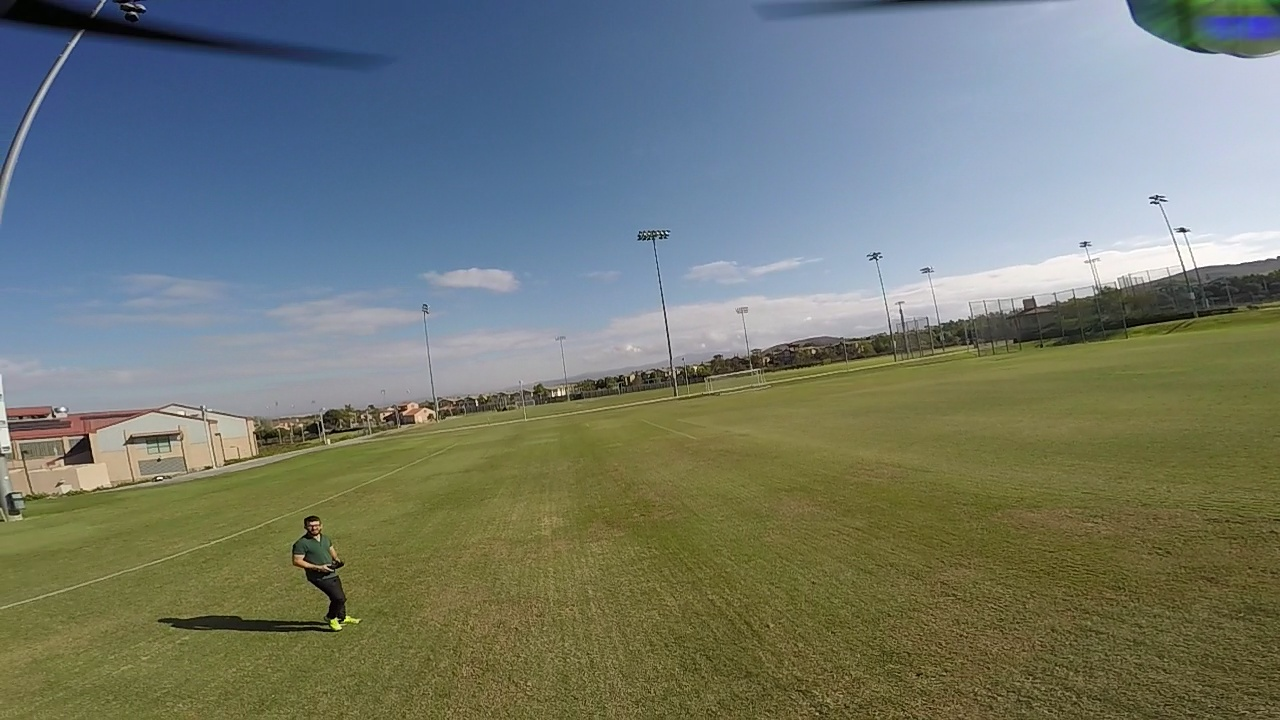person: (282, 511, 343, 631)
